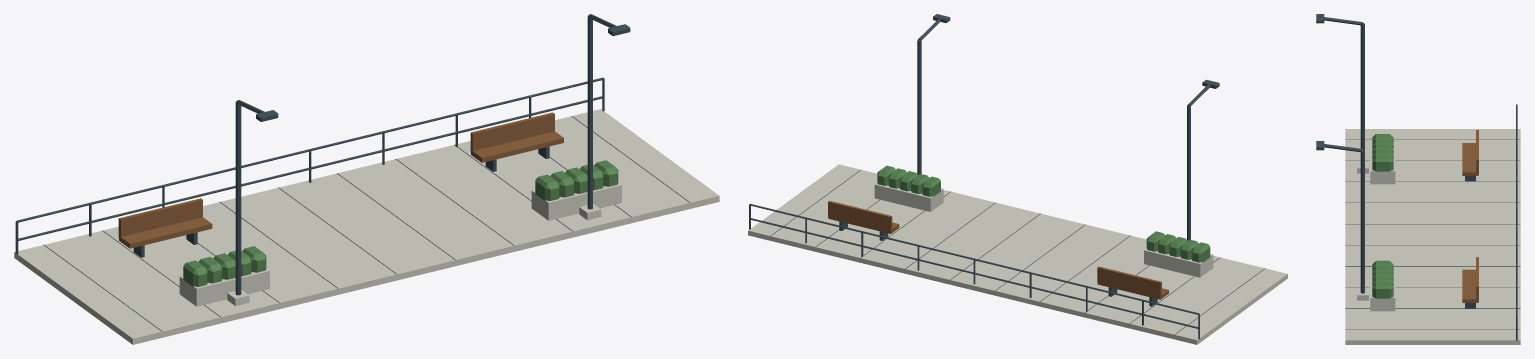
Rendered from PromenadeSegment.glb.
The picture shows the model from 3 angles, left to right: view 1: azimuth 30°, elevation 25°; view 2: azimuth 150°, elevation 25°; view 3: azimuth 270°, elevation 25°; orthographic projection. The views are drawn at different scales.
Parts seen in each view (by area): view 1: PromenadeSegment_V8_Promenade_Stone, PromenadeSegment_V8_Roof_Graphite, PromenadeSegment_V8_Bench_Timber, PromenadeSegment_V8_Planter_Green; view 2: PromenadeSegment_V8_Promenade_Stone, PromenadeSegment_V8_Roof_Graphite, PromenadeSegment_V8_Bench_Timber, PromenadeSegment_V8_Planter_Green; view 3: PromenadeSegment_V8_Promenade_Stone, PromenadeSegment_V8_Roof_Graphite, PromenadeSegment_V8_Planter_Green, PromenadeSegment_V8_Bench_Timber.
Part boxes in pixels (x1,y1,x2,y2): PromenadeSegment_V8_Promenade_Stone: (14,109,719,344); PromenadeSegment_V8_Roof_Graphite: (15,14,690,331); PromenadeSegment_V8_Bench_Timber: (118,112,563,248); PromenadeSegment_V8_Planter_Green: (183,160,618,286); PromenadeSegment_V8_Promenade_Stone: (748,164,1287,344); PromenadeSegment_V8_Roof_Graphite: (749,14,1265,339); PromenadeSegment_V8_Bench_Timber: (828,200,1168,299); PromenadeSegment_V8_Planter_Green: (877,165,1210,262); PromenadeSegment_V8_Promenade_Stone: (1345,129,1520,344); PromenadeSegment_V8_Roof_Graphite: (1316,14,1520,340); PromenadeSegment_V8_Planter_Green: (1372,134,1393,298); PromenadeSegment_V8_Bench_Timber: (1462,130,1478,302).
Size of the model in its own units: 20.06 by 7.01 by 8.16.
